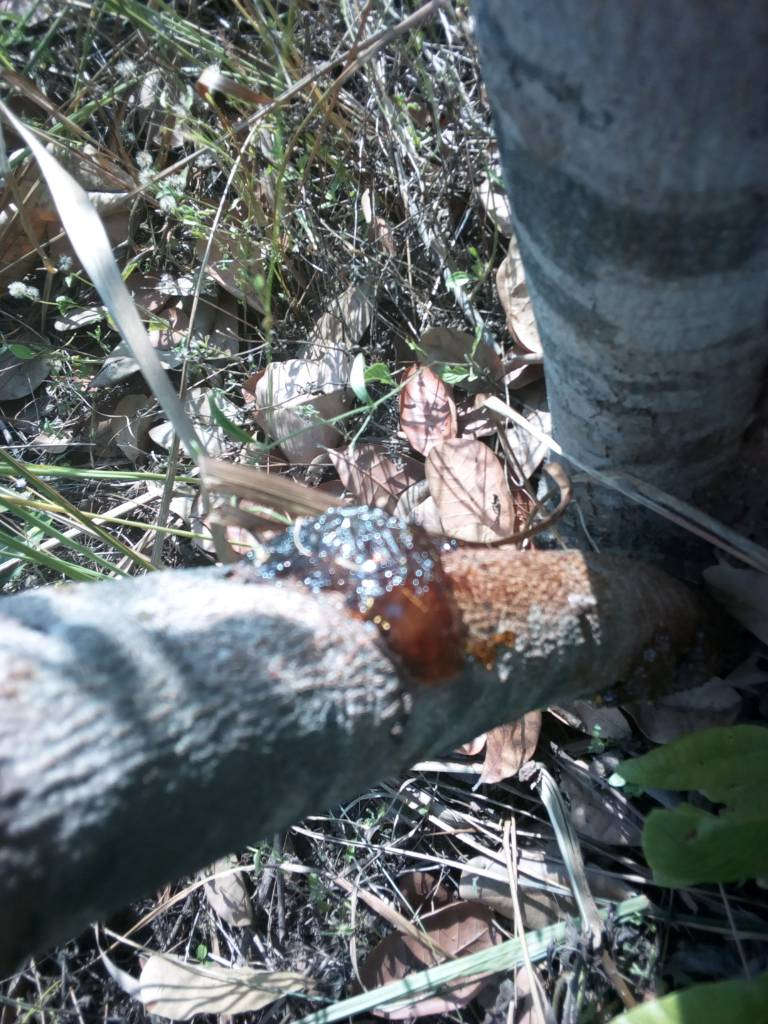Mecocorynus longiceps: (258, 478, 500, 690)
